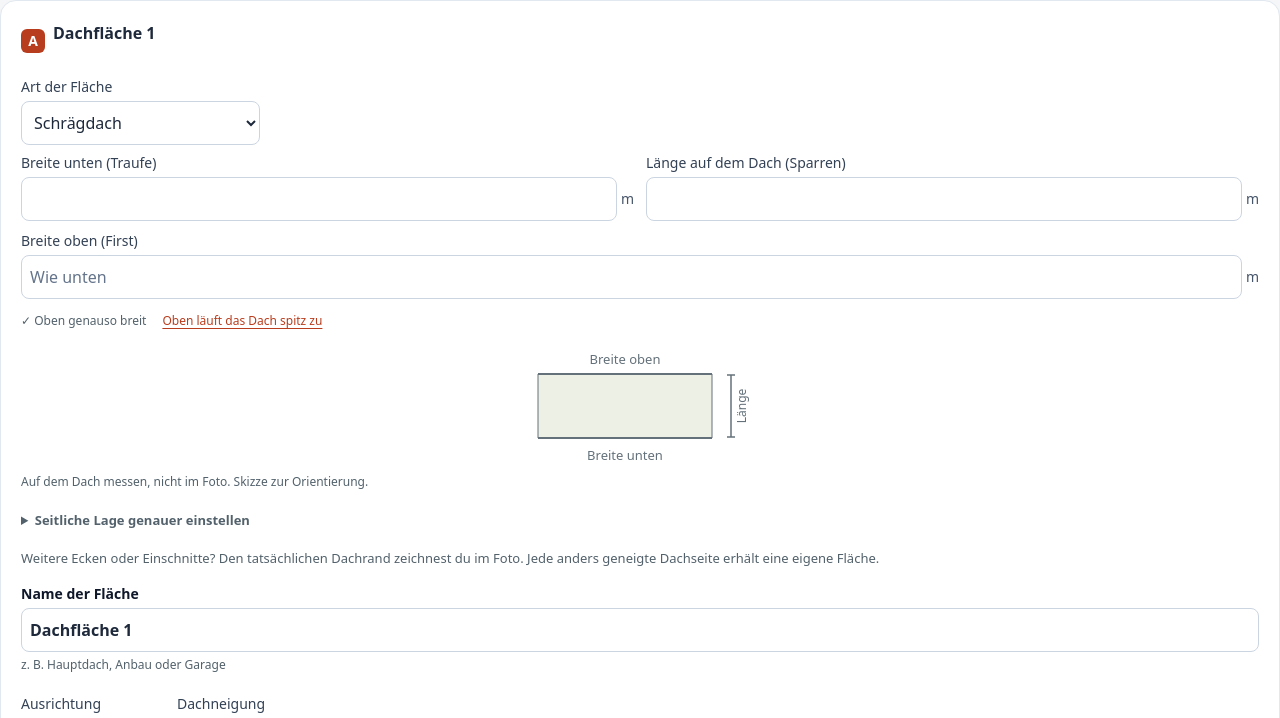
Montage im Vertrieb › akzeptiert Dezimalkomma und hält einen ungültigen Winkel als sichtbaren Entwurf
Select "Freifläche · Modultische" in the dropdown labelled "Art der Fläche" at (140, 123), box [21,101,260,145]
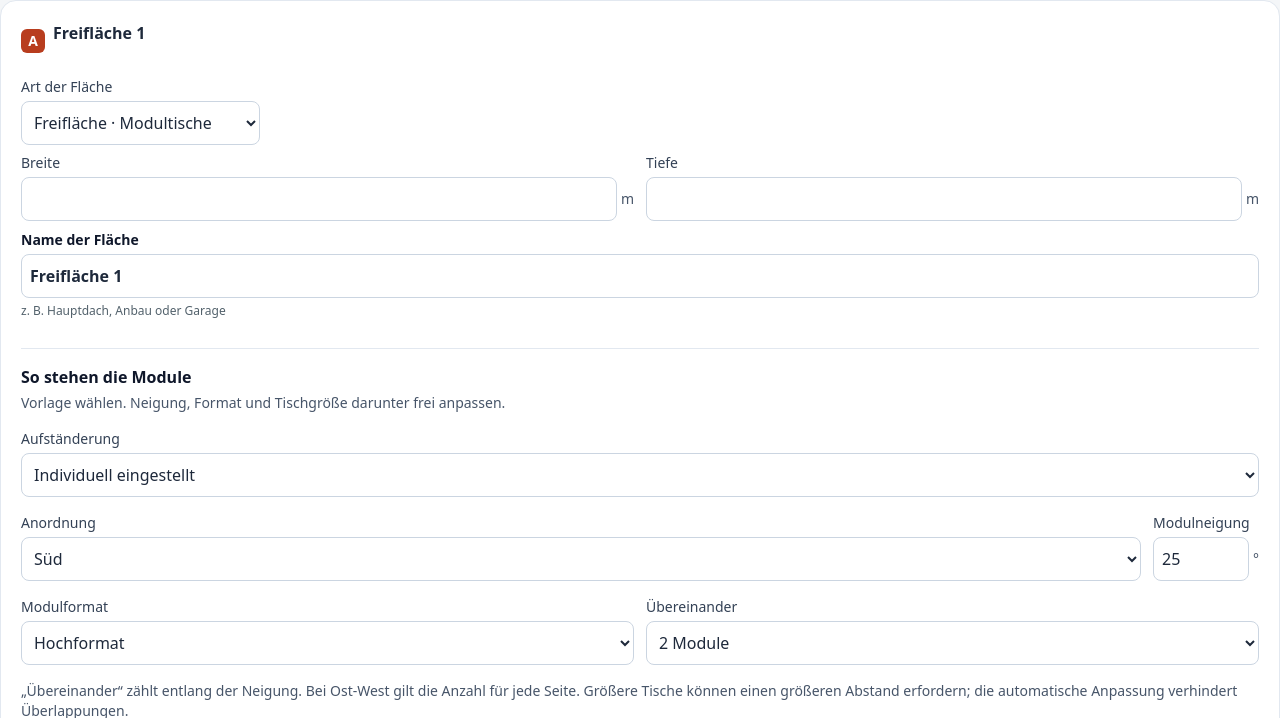
Replace the text in the field labelled "Modulneigung °" with "17,5" at (1201, 559), box [1153,537,1249,581]
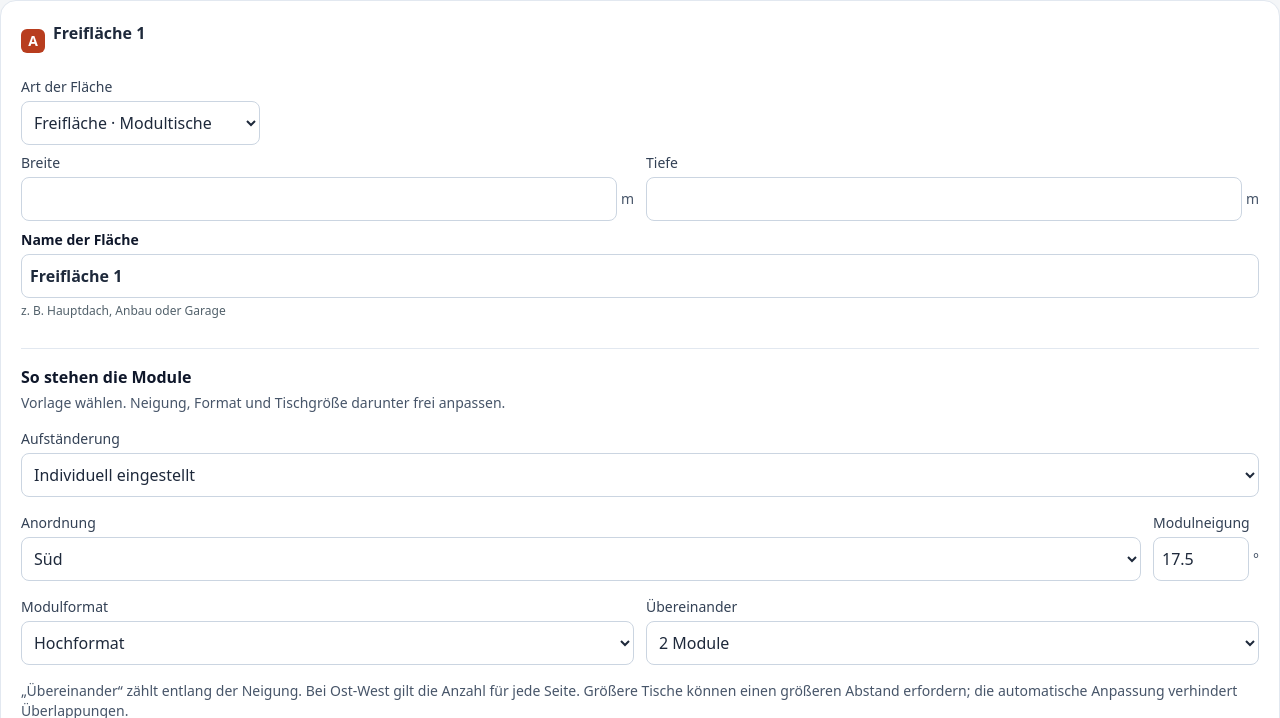
Replace the text in the field labelled "Modulneigung °" with "90" at (1201, 559), box [1153,537,1249,581]
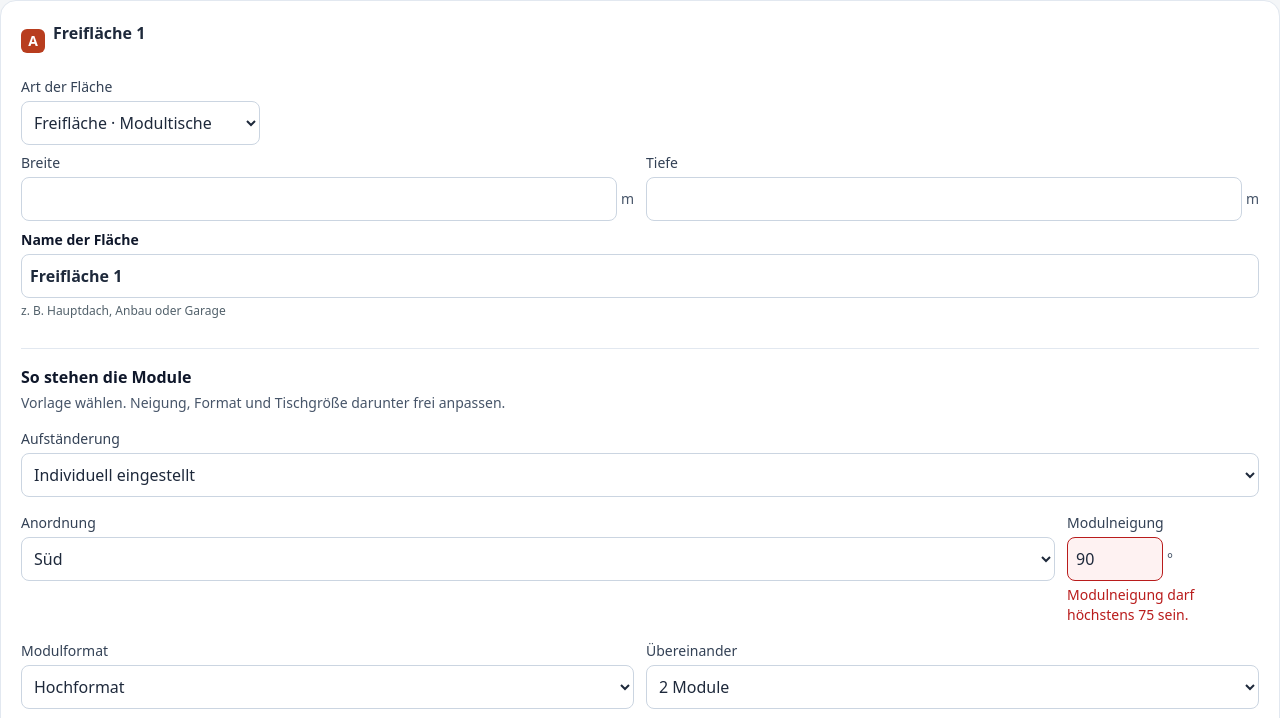
Now the text "Modulneigung darf höchstens 75 sein." is shown, box [1067,585,1194,624]
